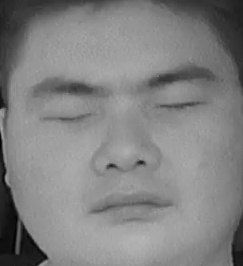blink: (45, 101, 97, 134), (157, 92, 205, 119)
mouth: (87, 183, 172, 230)
